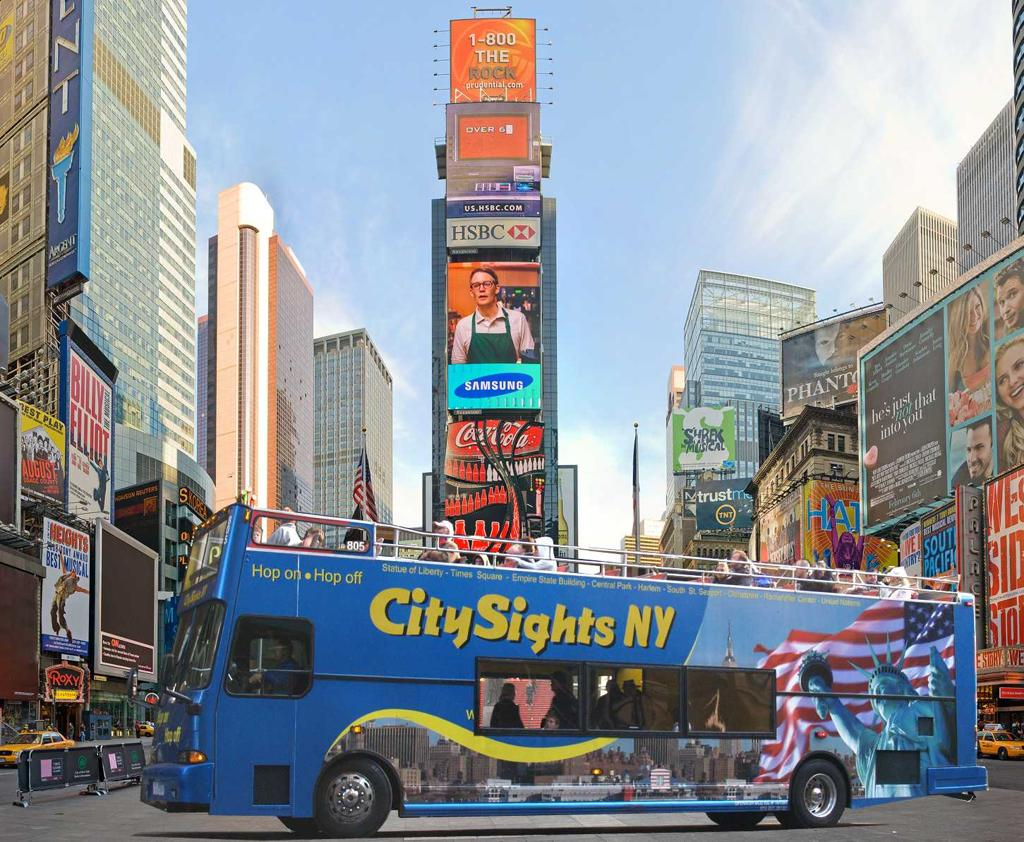face: (996, 345, 1024, 410), (996, 277, 1024, 327), (814, 324, 849, 364), (964, 425, 990, 475), (966, 293, 984, 334), (471, 269, 492, 304), (432, 524, 446, 543), (271, 641, 284, 659), (549, 675, 560, 691), (839, 573, 852, 586), (310, 532, 320, 548), (794, 559, 804, 574), (546, 716, 557, 729), (714, 563, 723, 577), (731, 552, 741, 564), (252, 527, 260, 542), (842, 534, 852, 546), (866, 571, 876, 581), (475, 556, 483, 567), (882, 576, 890, 583), (890, 574, 896, 582), (38, 439, 42, 446), (33, 436, 37, 442), (44, 440, 47, 446)
